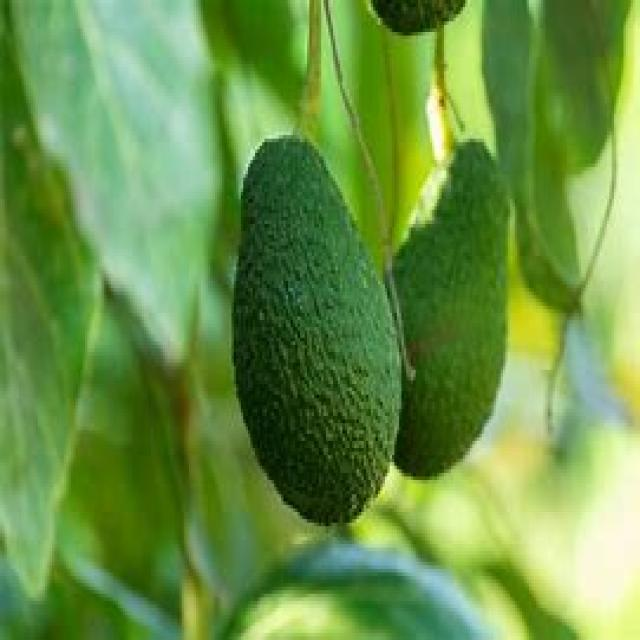avocado: (234, 141, 406, 529)
